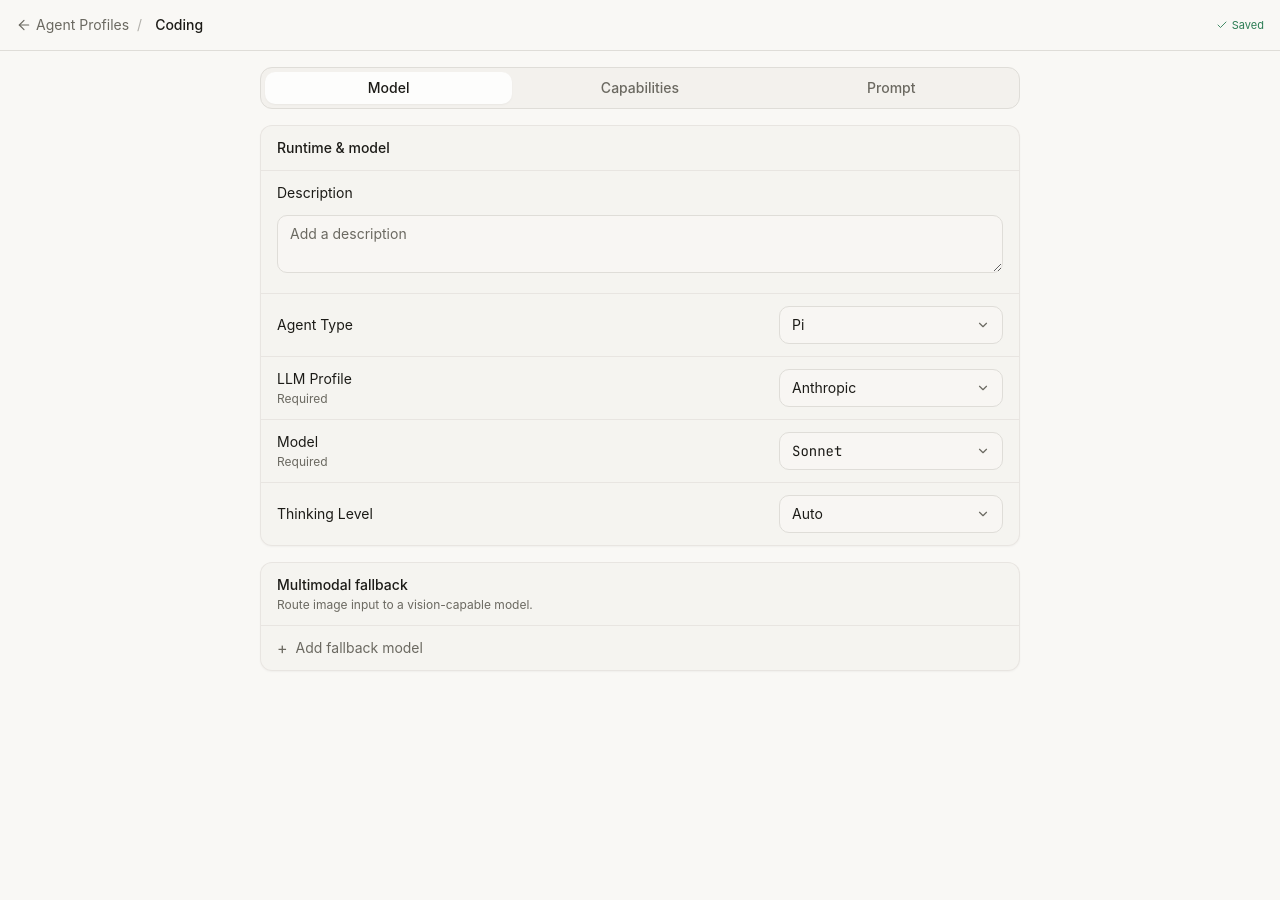
Test: ProfileEditor › Capabilities tab defaults to the Tools sub-panel with tool sets visible
Check: the field with placeholder "e.g., Default Coding Agent" is shown, box [150,12,208,38]
Click the tab "Capabilities" at coordinates (640, 88), box [516,72,764,104]
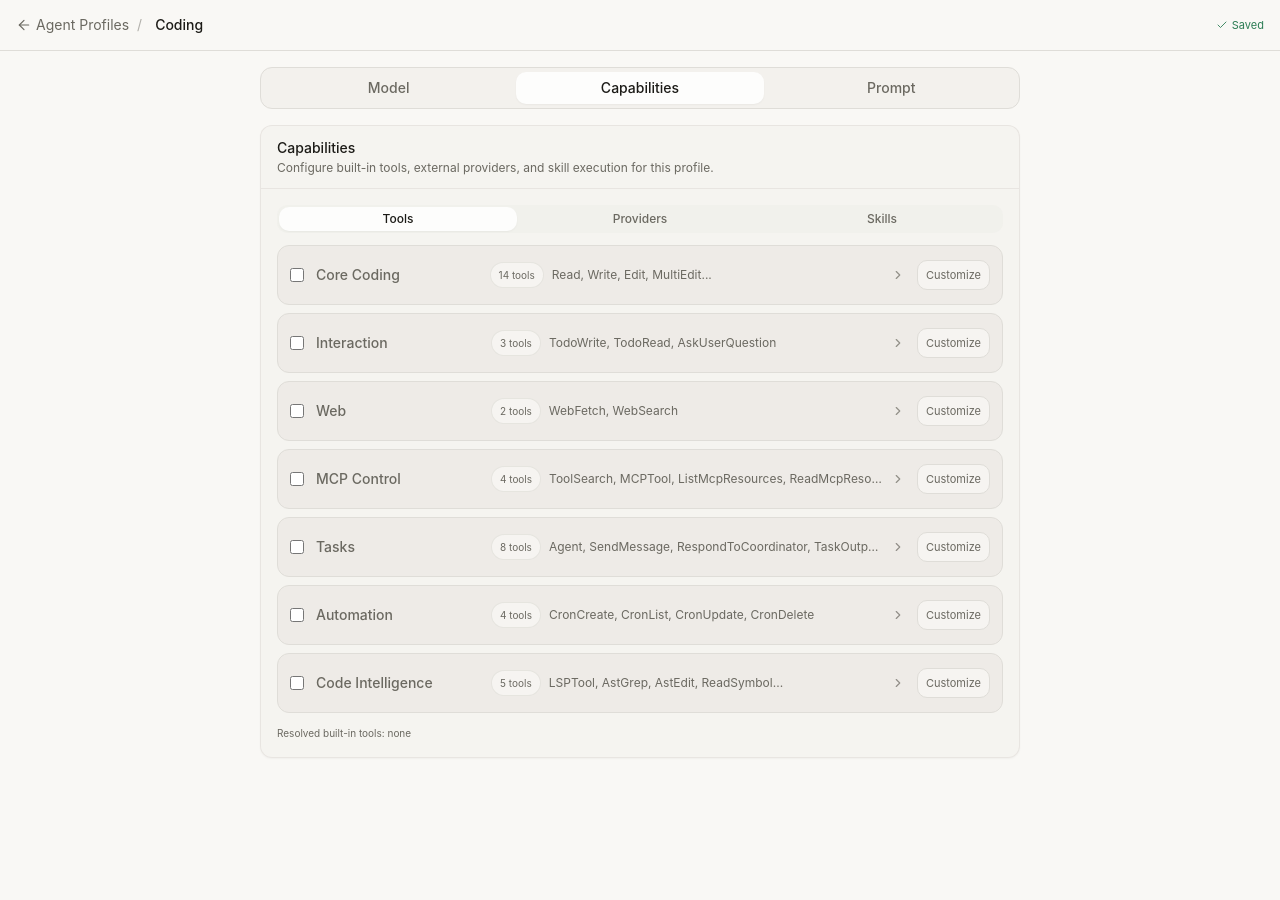
Check: the checkbox named "enable full tool set" is shown, box [290,268,304,282]
